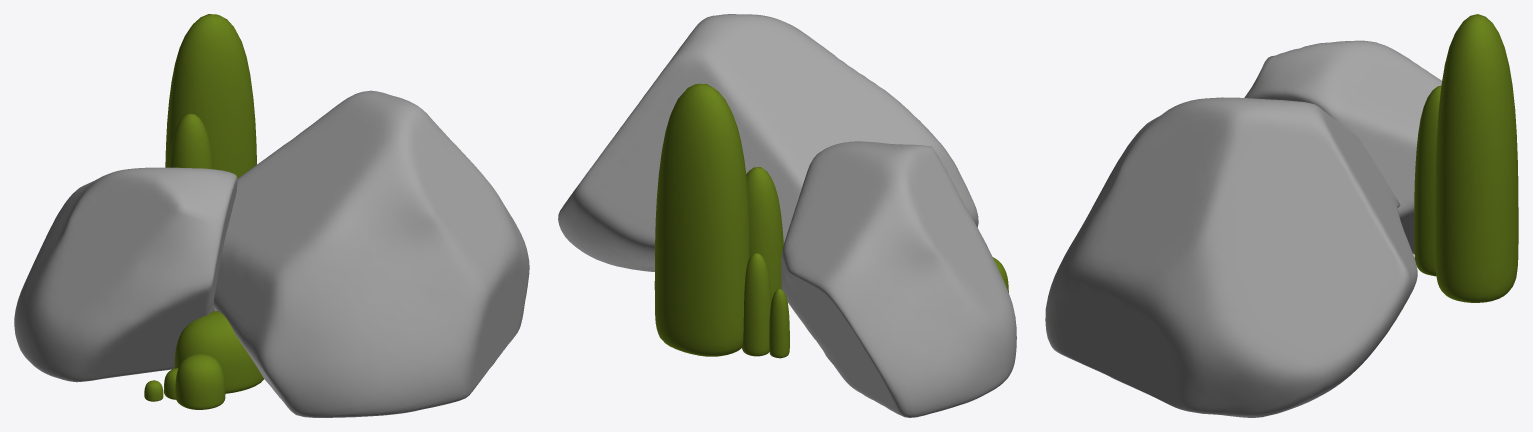
File: rock.glb
3 views of the same model, side by side, from view 1: azimuth 30°, elevation 25°; view 2: azimuth 150°, elevation 25°; view 3: azimuth 270°, elevation 25° (orthographic). The views are drawn at different scales.
Visible parts, largest first — view 1: Merged_af6507c5_1, Merged_7896820a_0; view 2: Merged_af6507c5_1, Merged_7896820a_0; view 3: Merged_af6507c5_1, Merged_7896820a_0.
Boxes of the visible parts, x1,y1,x2,y2 form: Merged_af6507c5_1: [14, 90, 529, 417]; Merged_7896820a_0: [144, 14, 263, 409]; Merged_af6507c5_1: [558, 14, 1016, 417]; Merged_7896820a_0: [654, 83, 1008, 358]; Merged_af6507c5_1: [1045, 40, 1441, 417]; Merged_7896820a_0: [1414, 14, 1518, 302].
Bounding box in the file's own units: 1 × 0.5862 × 0.8384.
